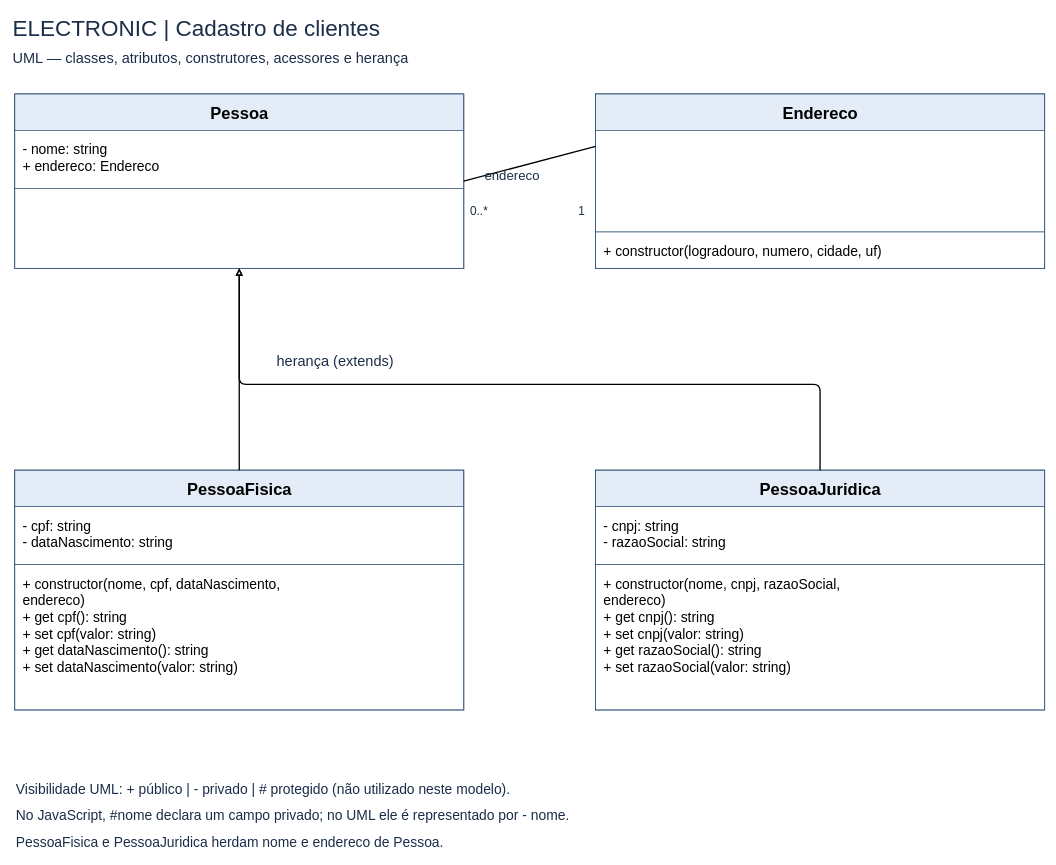
This 1056x865 diagram has some shape labels left out. The shapes that lost their labels are listed below. From the top down, each one's box as (x1, y1, x2, y2) in pixels, then its label:
(595, 130, 1044, 232): + logradouro: string + numero: string | number + cidade: string + uf: string
(14, 188, 464, 268): + constructor(nome, endereco) + get nome(): string + set nome(valor: string)
